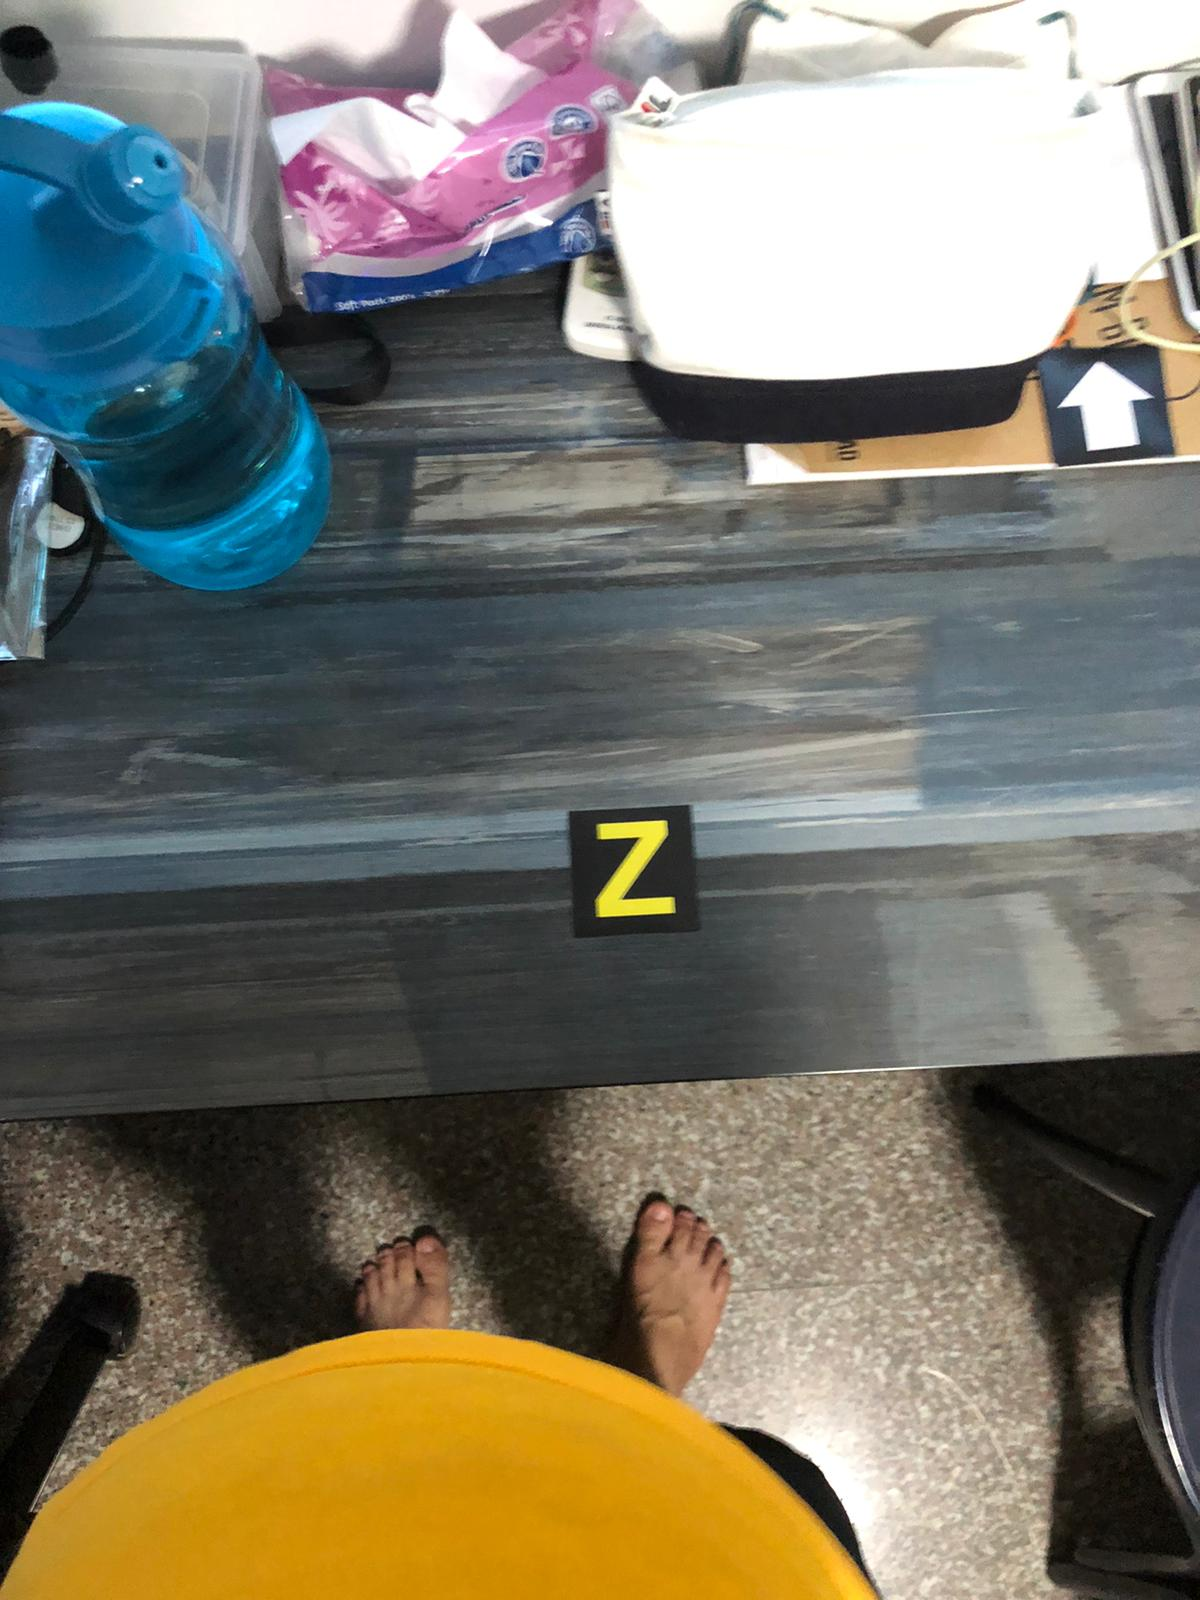Z: (570, 813, 695, 944)
